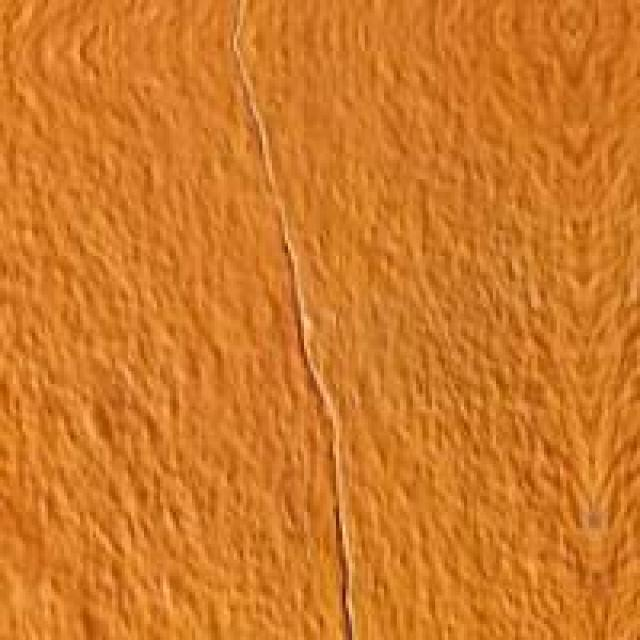Crack: (240, 310, 432, 637)
